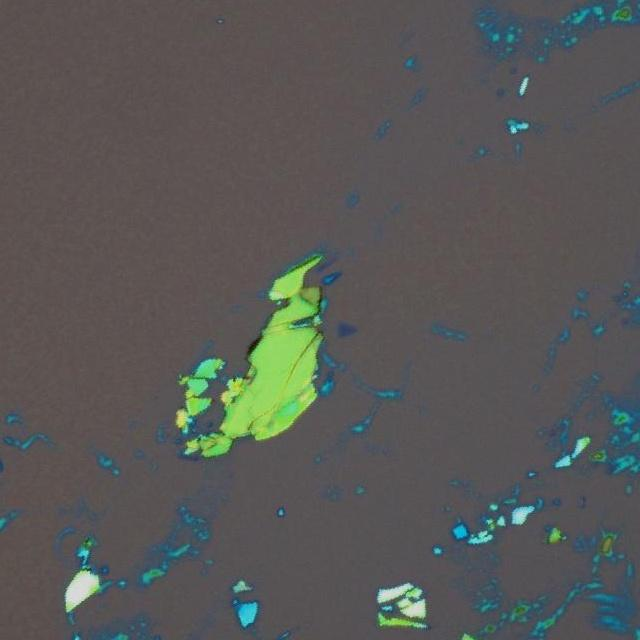monolayer-eWW4: (336, 321, 357, 338)
